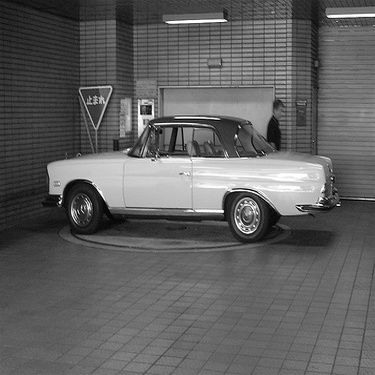car: (9, 101, 342, 235)
